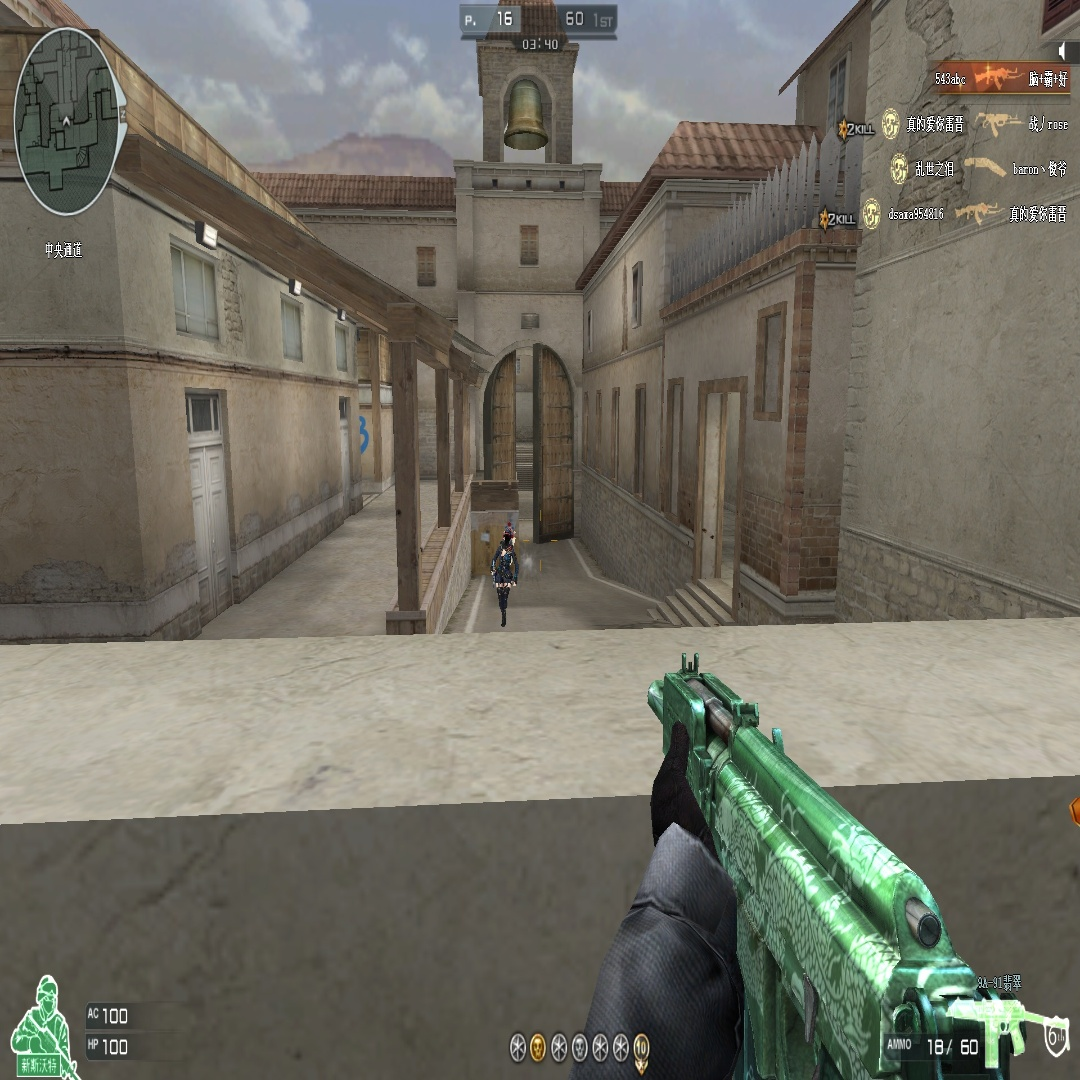head: (502, 523, 514, 544)
p: (492, 517, 519, 585)
